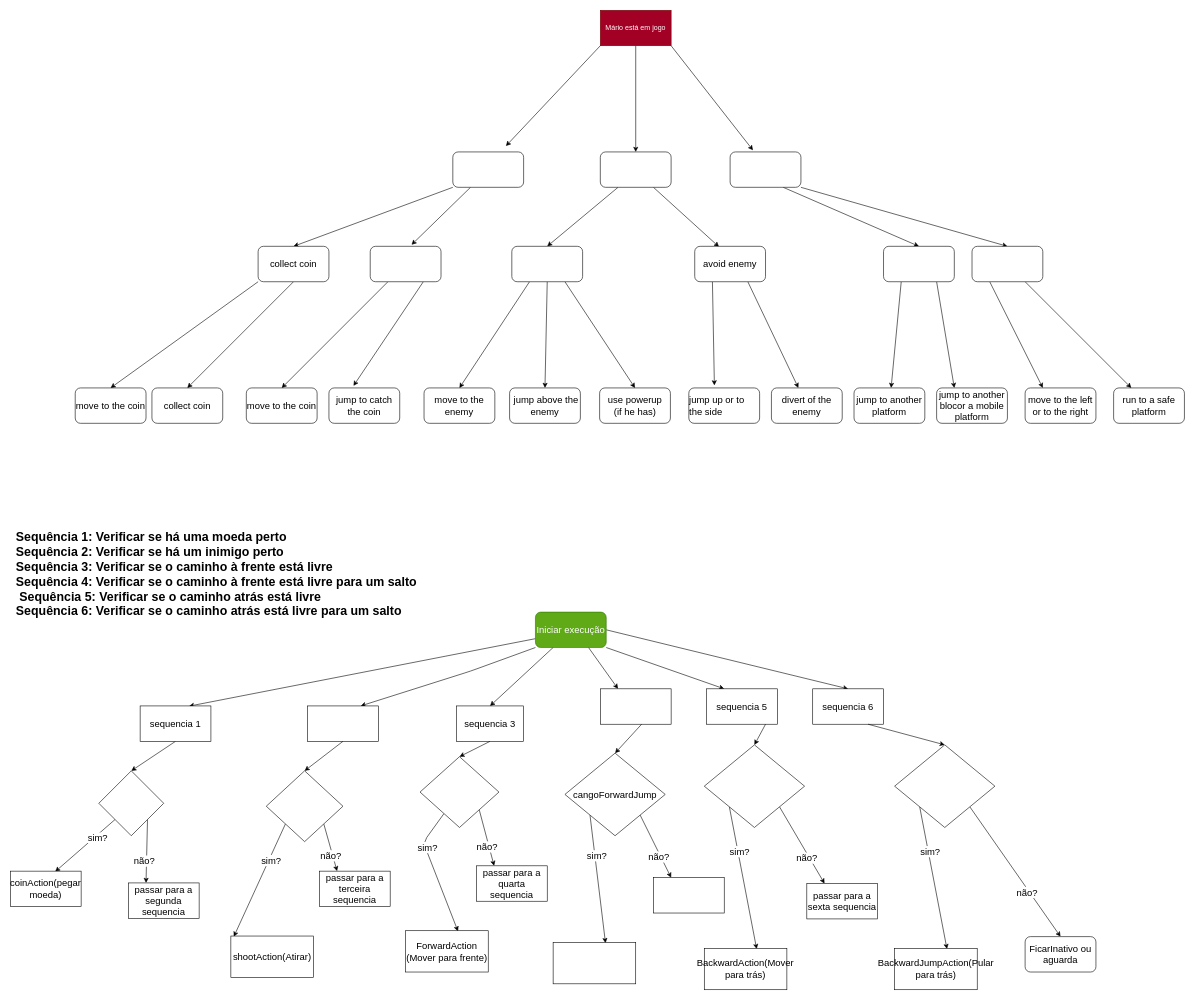
Image size: 1195x1000. Some labels were removed from this diagram. The centre of each missing label's shape, as x and y in pixels:
"atack enemy" belongs at (x=547, y=264).
"avoid pit" belongs at (x=1007, y=264).
"CangoBackward" belongs at (x=754, y=785).
"CanGoBackwardJump" belongs at (x=944, y=785).
"cangoForward" belongs at (x=459, y=791).
"ForwardJumpAction(Pular para frente)" belongs at (x=594, y=963).
"Is Mario near a coin ?" belongs at (x=488, y=169).
"Is Mario near a pit?" belongs at (x=765, y=169).
"Is Mario near an enemy?" belongs at (x=635, y=169).
"isCoinNear" belongs at (x=131, y=803).
"IsEnemyNear" belongs at (x=304, y=806).
"jump" belongs at (x=918, y=264).
"jump for coin" belongs at (x=405, y=264).
"passar para a quinta sequencia" belongs at (x=688, y=895).
"sequencia 2" belongs at (x=342, y=723).
"sequencia 4" belongs at (x=635, y=706).
